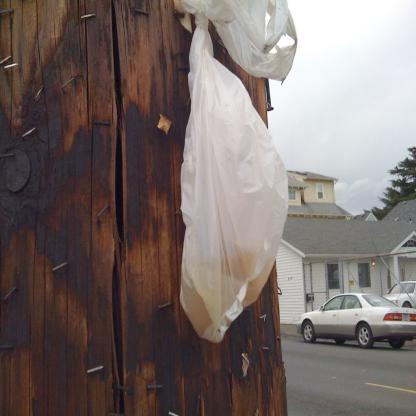Car: (296, 292, 416, 350), (382, 281, 416, 309)
